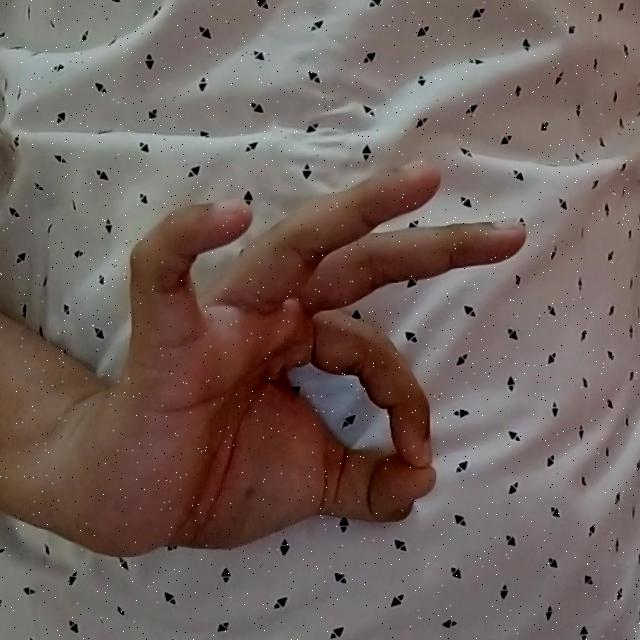O: (114, 153, 542, 570)
